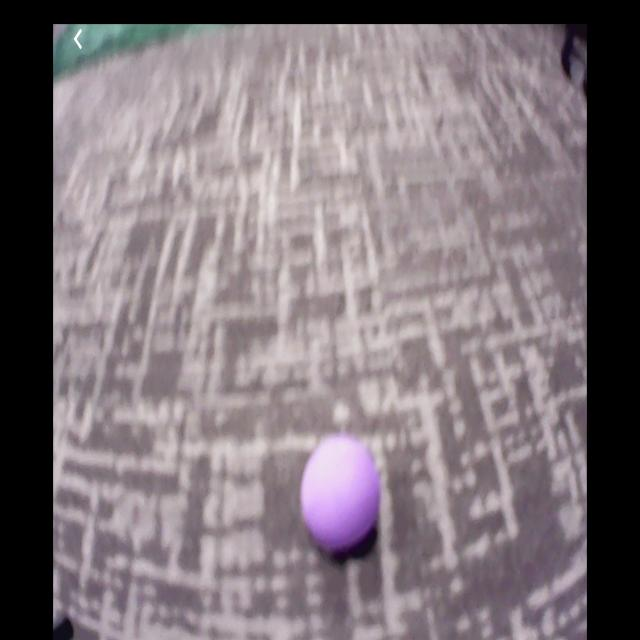ball: (301, 436, 381, 553)
